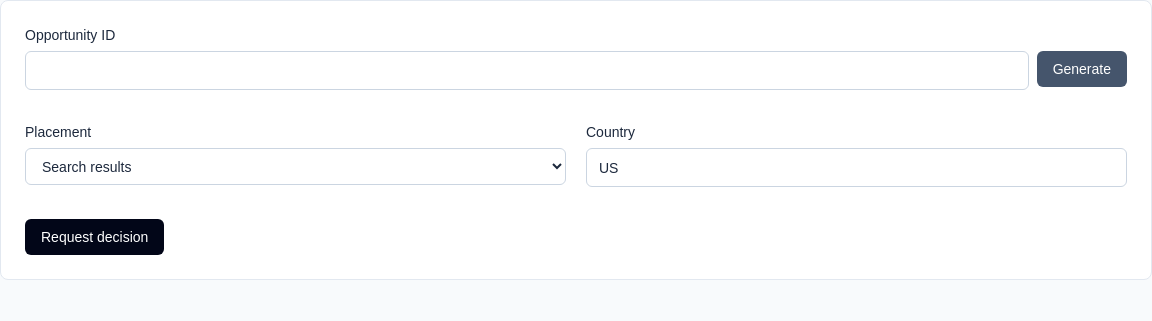
Test: DecisionLab › validates the opportunity before submission
The width and height of the screenshot is (1152, 321).
What coordinates should you click on to do the following:
click the button "Request decision"
I would click on:
 (95, 237)
Its box is [25, 219, 164, 255].
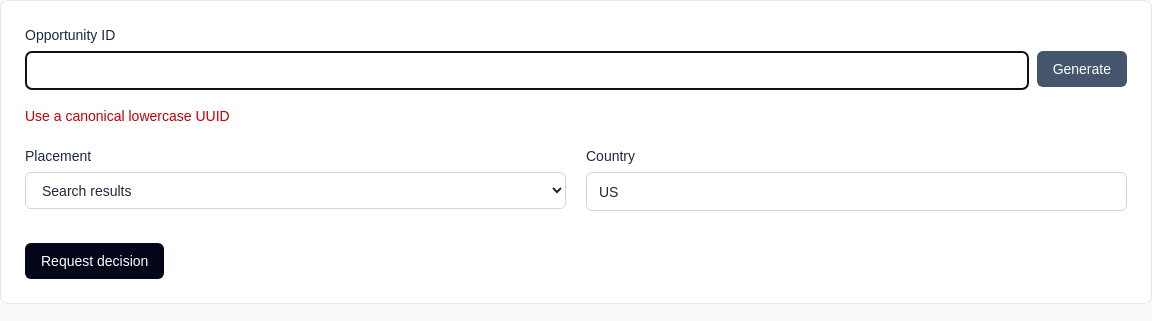
Check: the text "Use a canonical lowercase UUID" is shown, box [25, 108, 230, 124]
